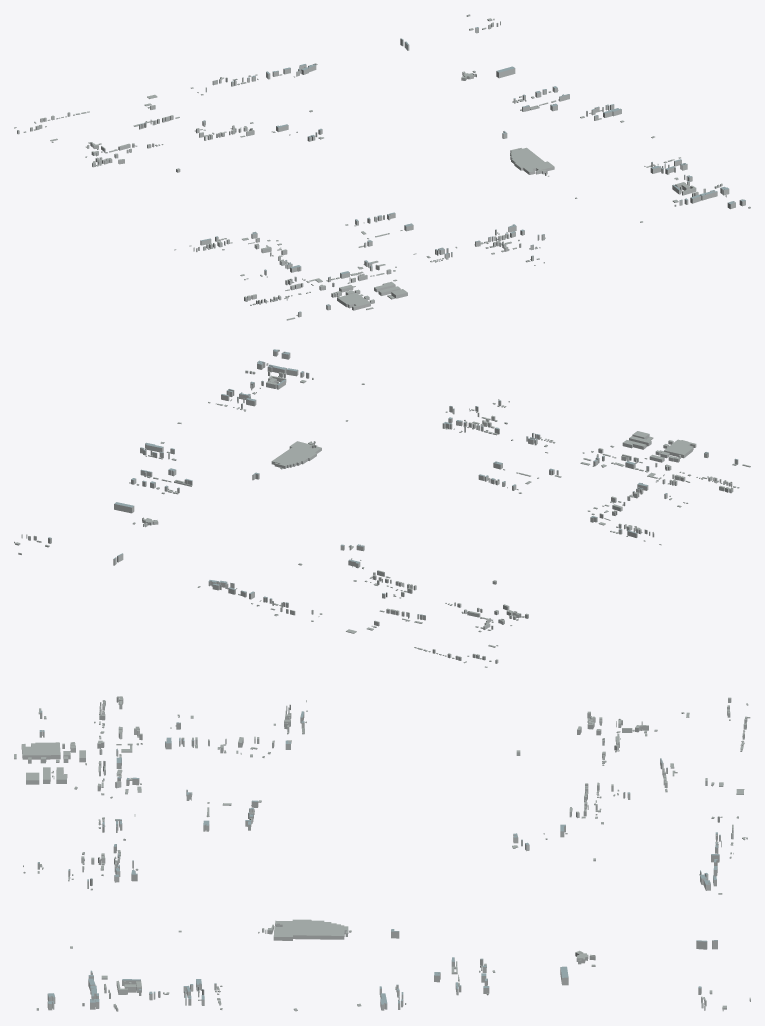
The model's file is far.glb.
The picture shows the model from 3 angles, top to bottom: view 1: azimuth 30°, elevation 25°; view 2: azimuth 150°, elevation 25°; view 3: azimuth 270°, elevation 25°; orthographic projection. The views are drawn at different scales.
Size of the model in its own units: 2098 by 26.7 by 2101.
